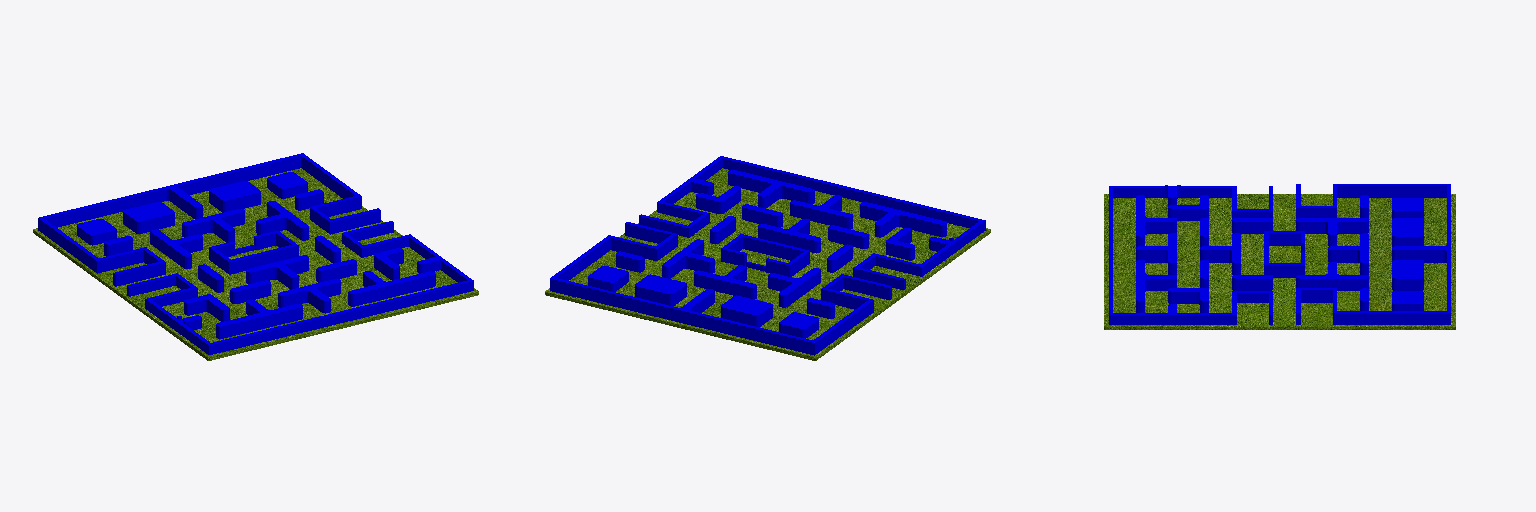
3 views of the same model, side by side, from view 1: azimuth 30°, elevation 25°; view 2: azimuth 150°, elevation 25°; view 3: azimuth 270°, elevation 25° (orthographic).
Parts seen in each view (by area): view 1: Layer_outline, Box001; view 2: Layer_outline, Box001; view 3: Layer_outline, Box001.
Part boxes in pixels (bbox=[...]): Layer_outline: bbox=[38, 153, 473, 354]; Box001: bbox=[33, 168, 478, 360]; Layer_outline: bbox=[550, 156, 985, 355]; Box001: bbox=[545, 168, 990, 360]; Layer_outline: bbox=[1109, 184, 1450, 324]; Box001: bbox=[1104, 194, 1455, 329].
Bounding box in the file's own units: 35.62 × 1.98 × 40.
2 materials, 2 textured.